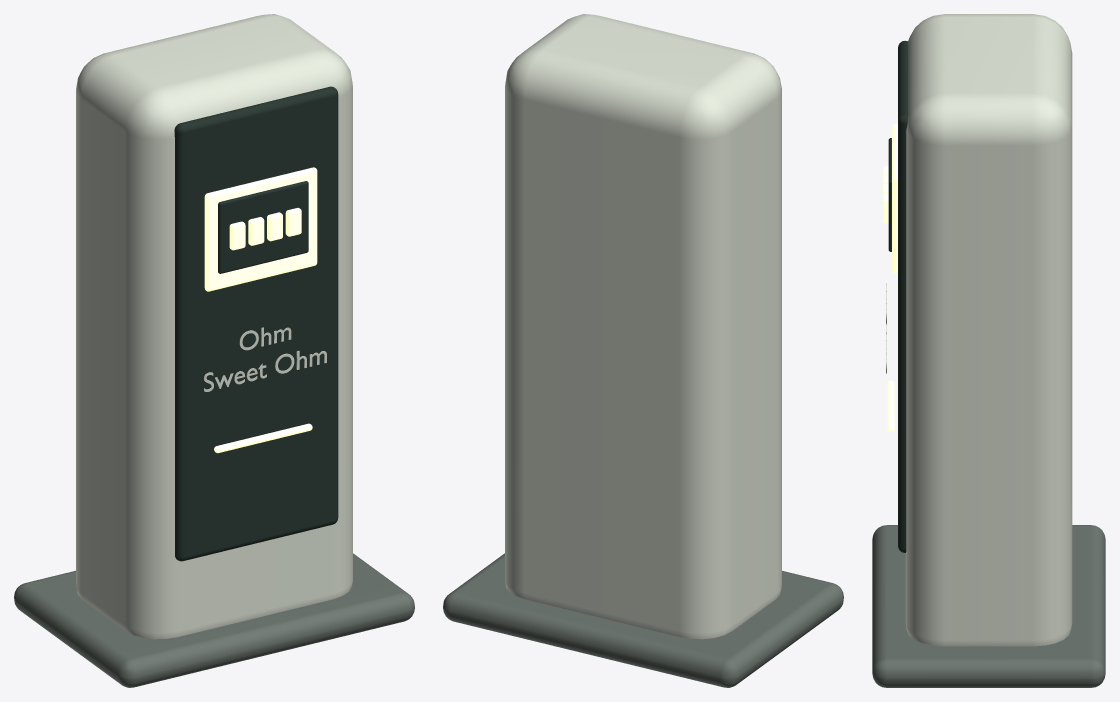
File: elan-charger.glb
The picture shows the model from 3 angles, left to right: view 1: azimuth 30°, elevation 25°; view 2: azimuth 150°, elevation 25°; view 3: azimuth 270°, elevation 25°; orthographic projection.
Visible parts, largest first — view 1: Borne — corps monobloc, Face noire, Socle arrondi, Écran noir intérieur, Écran lumineux, Signature Ohm Sweet Ohm, Ligne de statut; view 2: Borne — corps monobloc, Socle arrondi; view 3: Borne — corps monobloc, Socle arrondi, Face noire, Écran lumineux, Écran noir intérieur, Ligne de statut.
Boxes of the visible parts, left/top/right/bottom form: Borne — corps monobloc: left=76, top=14, right=352, bottom=639; Face noire: left=174, top=86, right=338, bottom=561; Socle arrondi: left=14, top=553, right=414, bottom=687; Écran noir intérieur: left=218, top=181, right=308, bottom=273; Écran lumineux: left=204, top=167, right=317, bottom=291; Signature Ohm Sweet Ohm: left=203, top=327, right=326, bottom=391; Ligne de statut: left=214, top=423, right=312, bottom=453; Borne — corps monobloc: left=505, top=14, right=781, bottom=639; Socle arrondi: left=443, top=553, right=843, bottom=687; Borne — corps monobloc: left=905, top=14, right=1072, bottom=646; Socle arrondi: left=872, top=525, right=1105, bottom=687; Face noire: left=898, top=40, right=908, bottom=552; Écran lumineux: left=892, top=123, right=897, bottom=273; Écran noir intérieur: left=888, top=138, right=891, bottom=251; Ligne de statut: left=887, top=380, right=894, bottom=432.
Bounding box in the file's own units: 0.82 × 1.5 × 0.56.
